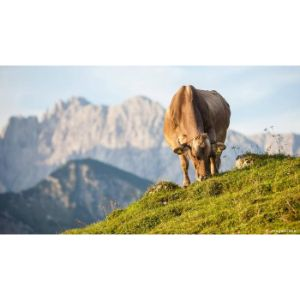cow: (161, 83, 233, 190)
